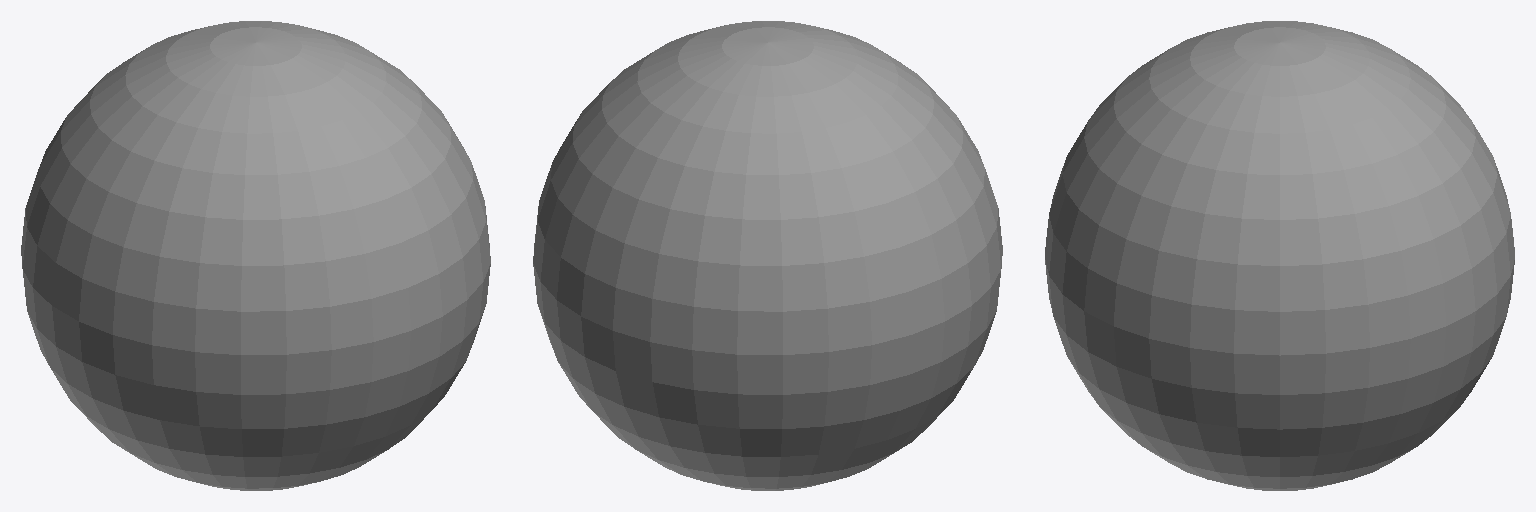
File: planet.obj
3 views of the same model, side by side, from view 1: azimuth 30°, elevation 25°; view 2: azimuth 150°, elevation 25°; view 3: azimuth 270°, elevation 25° (orthographic).
Parts seen in each view (by area): view 1: Sphere; view 2: Sphere; view 3: Sphere.
Part boxes in pixels (left/top/right/bottom): Sphere: left=21, top=21, right=490, bottom=490; Sphere: left=533, top=21, right=1002, bottom=490; Sphere: left=1045, top=21, right=1514, bottom=490.
Bounding box in the file's own units: 6.34 × 6.34 × 6.34.